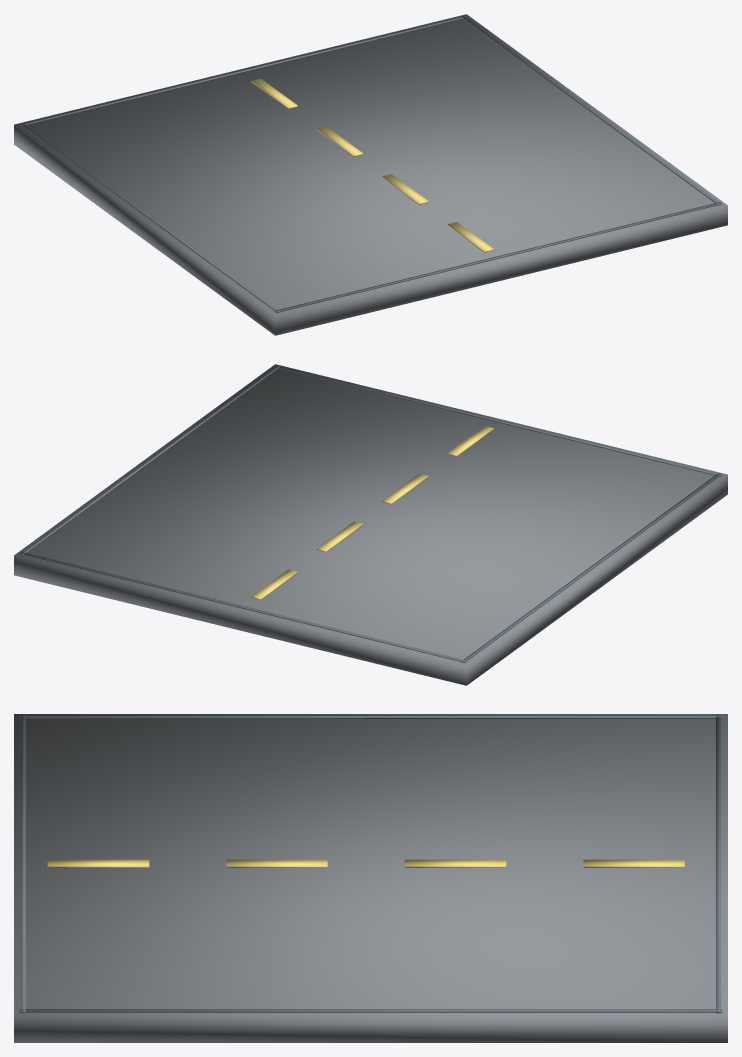
Rendered from road_tile_standard.glb.
3 views of the same model, one above another, from view 1: azimuth 30°, elevation 25°; view 2: azimuth 150°, elevation 25°; view 3: azimuth 270°, elevation 25° (orthographic). The views are drawn at different scales.
Visible parts, largest first — view 1: Base_asphalt, ExpansionJoint_dark, Marking_yellow; view 2: Base_asphalt, ExpansionJoint_dark, Marking_yellow; view 3: Base_asphalt, ExpansionJoint_dark, Marking_yellow.
Boxes of the visible parts, <box> form: Base_asphalt: <box>14,14,727,335</box>; ExpansionJoint_dark: <box>20,15,721,312</box>; Marking_yellow: <box>251,78,493,252</box>; Base_asphalt: <box>14,364,727,685</box>; ExpansionJoint_dark: <box>20,365,721,662</box>; Marking_yellow: <box>251,426,493,599</box>; Base_asphalt: <box>14,714,727,1042</box>; ExpansionJoint_dark: <box>19,715,722,1013</box>; Marking_yellow: <box>47,859,684,867</box>.
Bounding box in the file's own units: 3.8 × 0.171 × 3.8.
